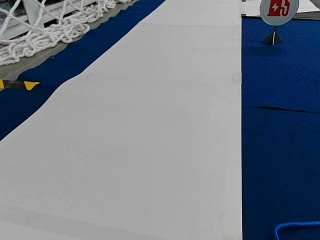battery: (259, 0, 299, 25)
